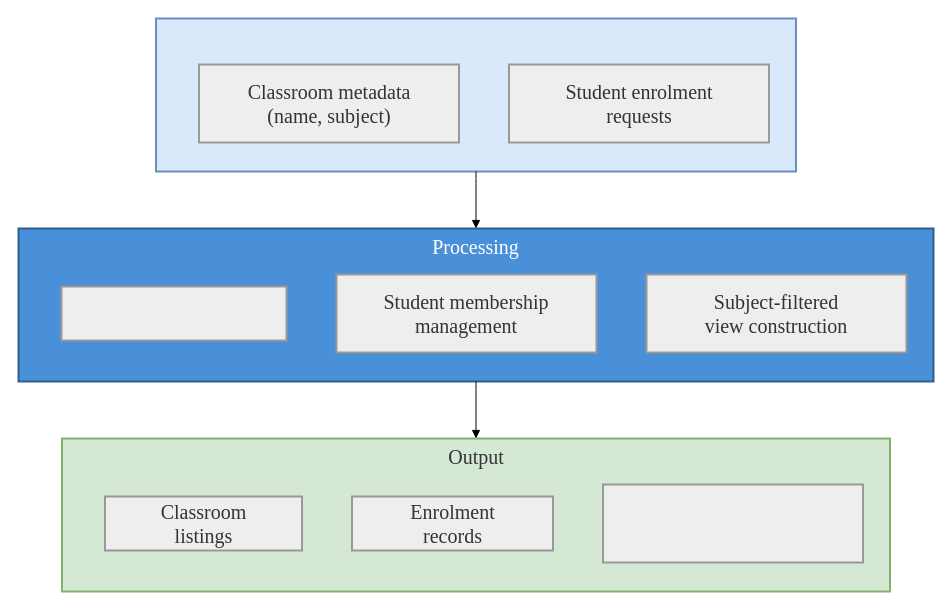
This 951x609 diagram has some shape labels left out. The shapes that lost their labels are listed below. From the top down, each one's box as (x1, y1, x2, y2) in pixels, then its label:
(154, 17, 796, 172): Input
(60, 285, 287, 341): Teacher authorisation
(602, 483, 864, 563): Subject-specific study structures
